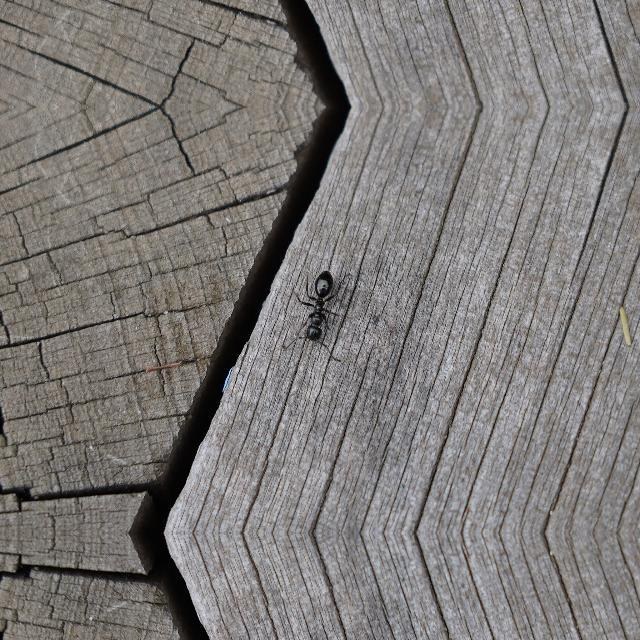Colobopsis: (288, 266, 344, 350)
